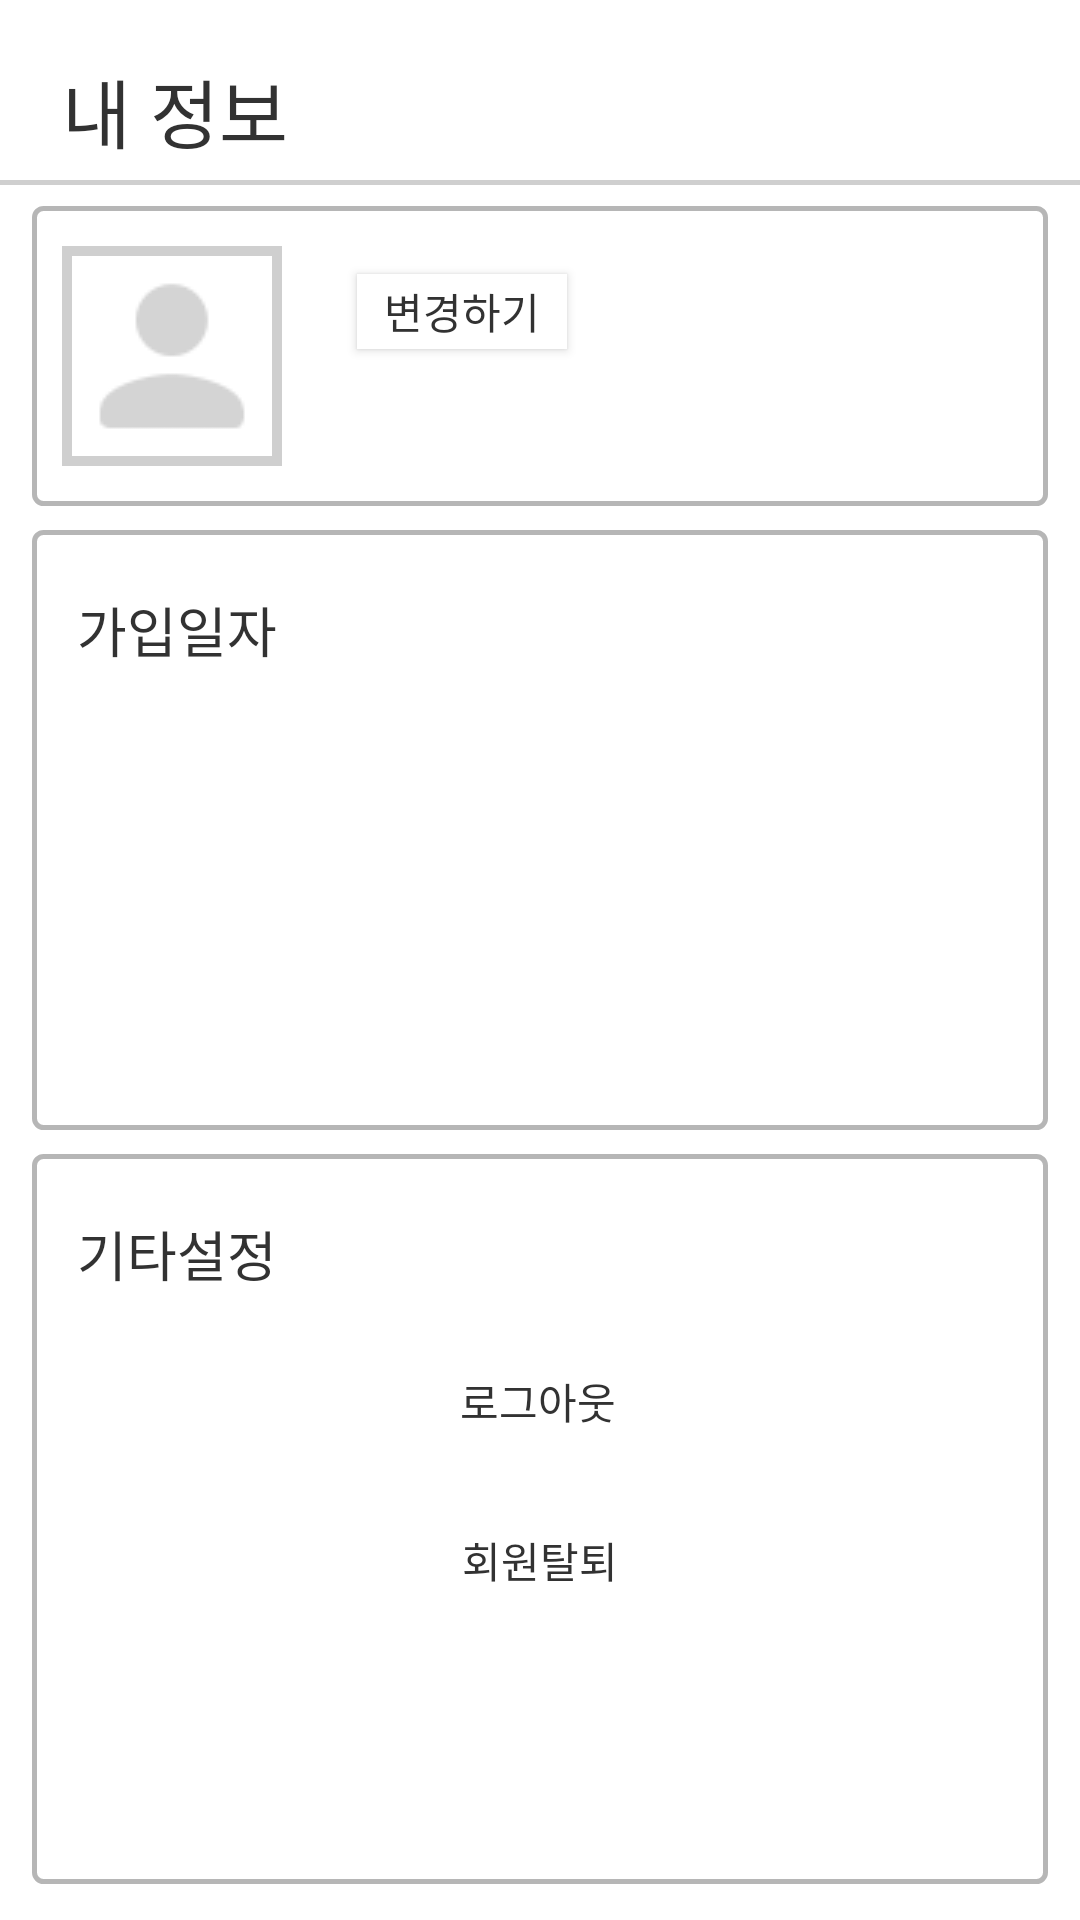

Icon bounding boxes for this 1080×1920 phone screenshot, format (x1, y1, x2, y2):
person: (62, 246, 282, 466)
